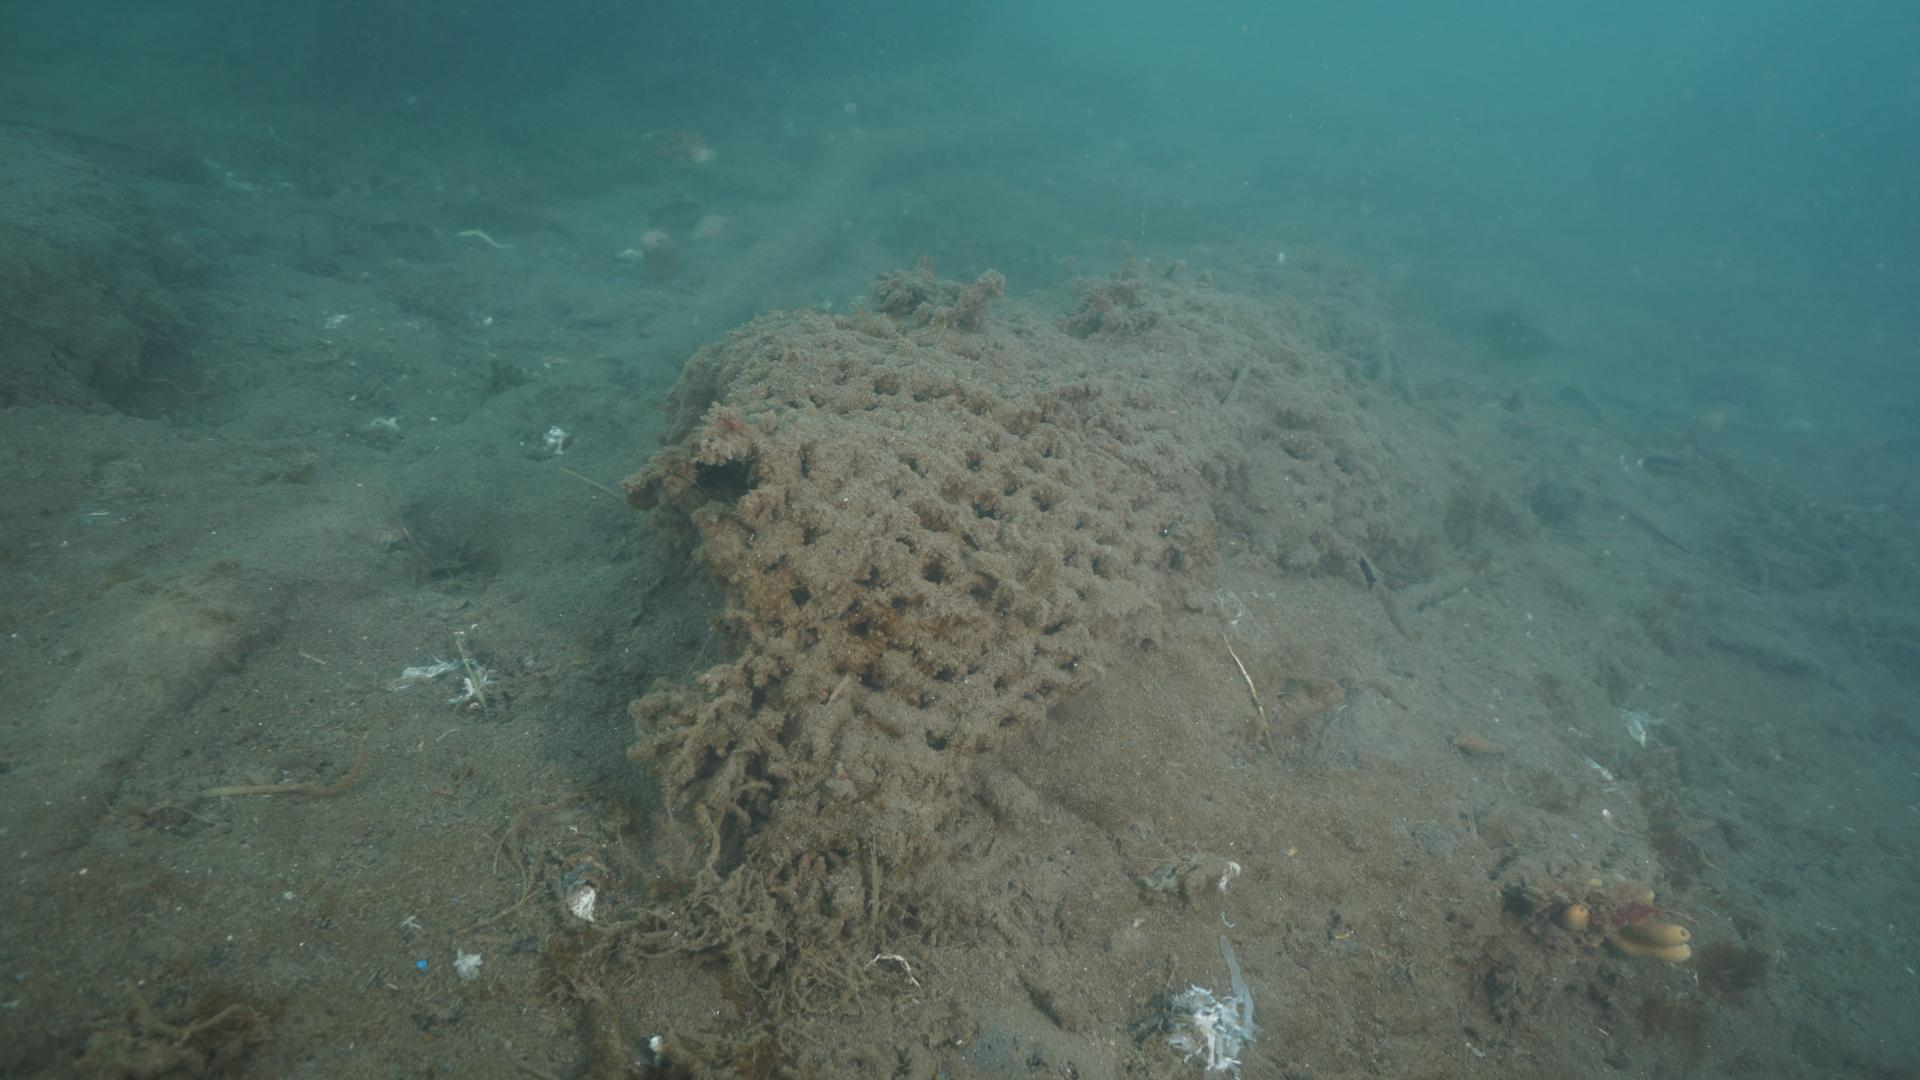fish net: (616, 255, 1466, 986)
